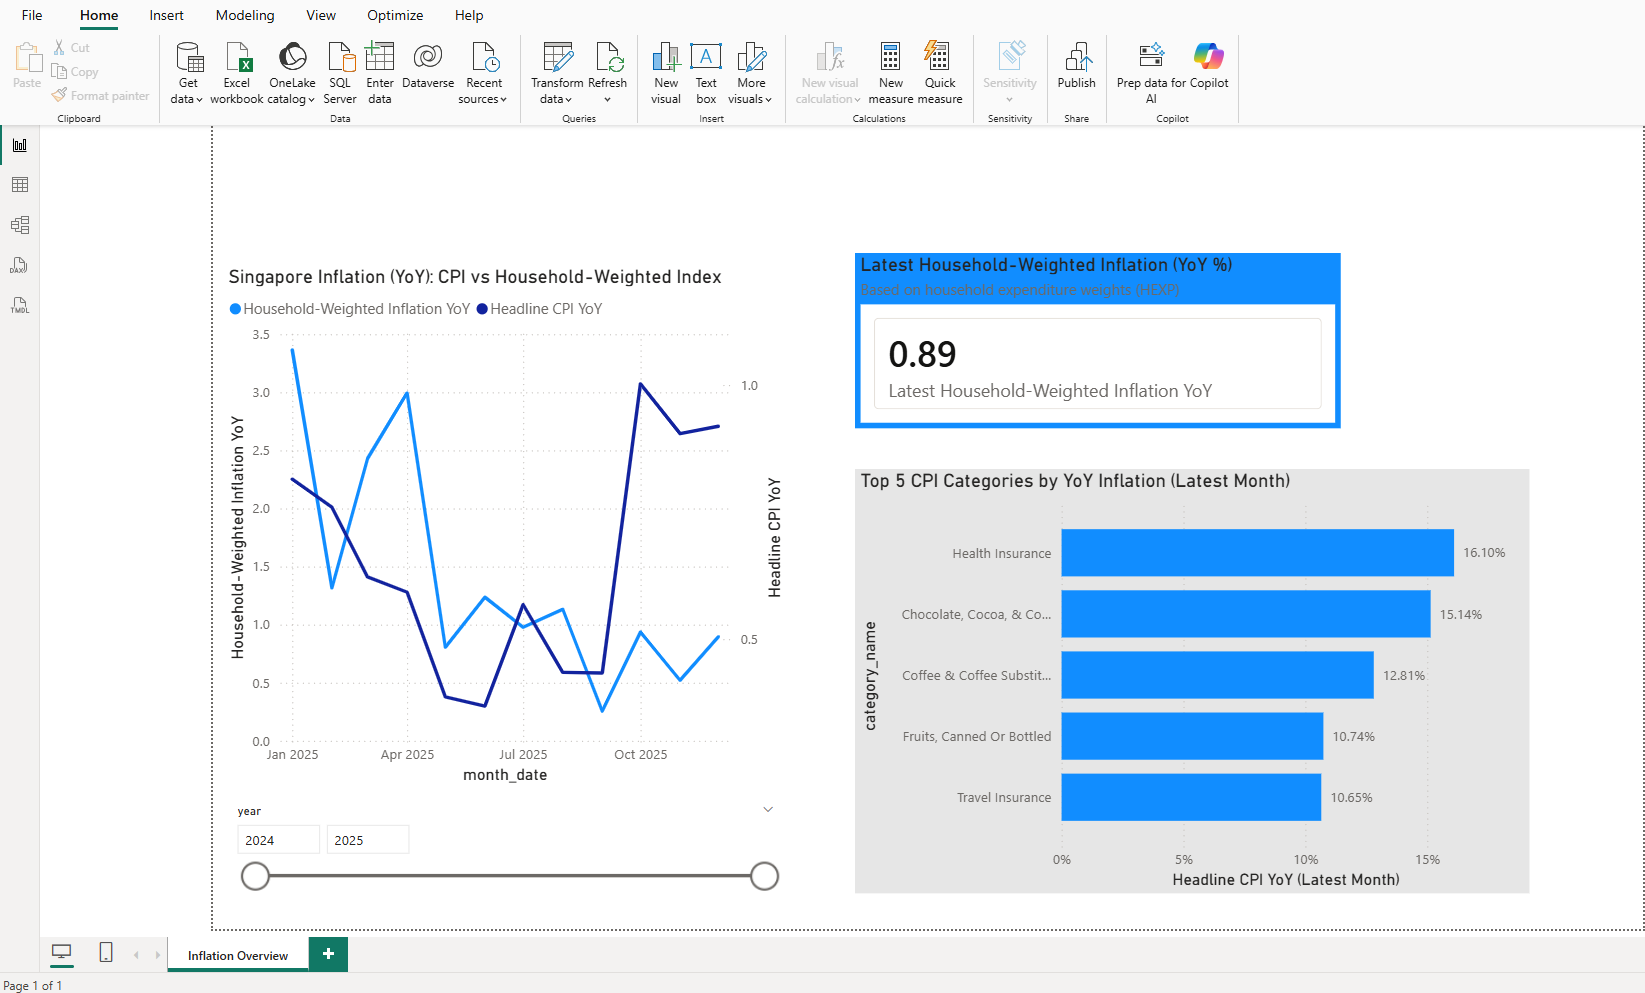

This screenshot's page, from the dashboard's own definition file:
{"tool":"powerbi","page":{"name":"Inflation Overview","canvas":[1280,720],"ordinal":0},"visuals":[{"type":"lineChart","title":"Singapore Inflation (YoY): CPI vs Household-Weighted Index","fields":{"Y":["vw_weighted_inflation_monthly.Weighted Inflation YoY %"],"Y2":["fact_cpi_monthly.CPI YoY %"],"Category":["dim_date_month.month_date"]},"box":[9.3,125.1,505.6,469.4],"z":0},{"type":"slicer","fields":{"Values":["dim_date_month.year"]},"box":[9.3,602.8,505.6,116.8],"z":1000},{"type":"cardVisual","title":"Latest Household-Weighted Inflation (YoY %)","fields":{"Data":["vw_weighted_inflation_monthly.Latest Household-Weighted Inflation YoY"]},"box":[574.9,114.8,435.3,157.2],"z":1001},{"type":"clusteredBarChart","title":"Top 5 CPI Categories by YoY Inflation (Latest Month)","fields":{"Category":["dim_price_category.category_name"],"Y":["fact_cpi_monthly.Headline CPI YoY (Latest Month)"]},"box":[574.9,308.1,603.8,380.5],"z":1002}]}

Visuals, with their boxes on the page's 1280x720 design canvas (x1, y1, x2, y2). These are canvas units, not pixel positions in the 1645x993 screenshot, which may show the page scaled, cropped or inside an application window:
"Singapore Inflation (YoY): CPI vs Household-Weighted Index" lineChart: x1=9 y1=125 x2=515 y2=594
slicer - dim_date_month.year: x1=9 y1=603 x2=515 y2=720
"Latest Household-Weighted Inflation (YoY %)" cardVisual: x1=575 y1=115 x2=1010 y2=272
"Top 5 CPI Categories by YoY Inflation (Latest Month)" clusteredBarChart: x1=575 y1=308 x2=1179 y2=689
